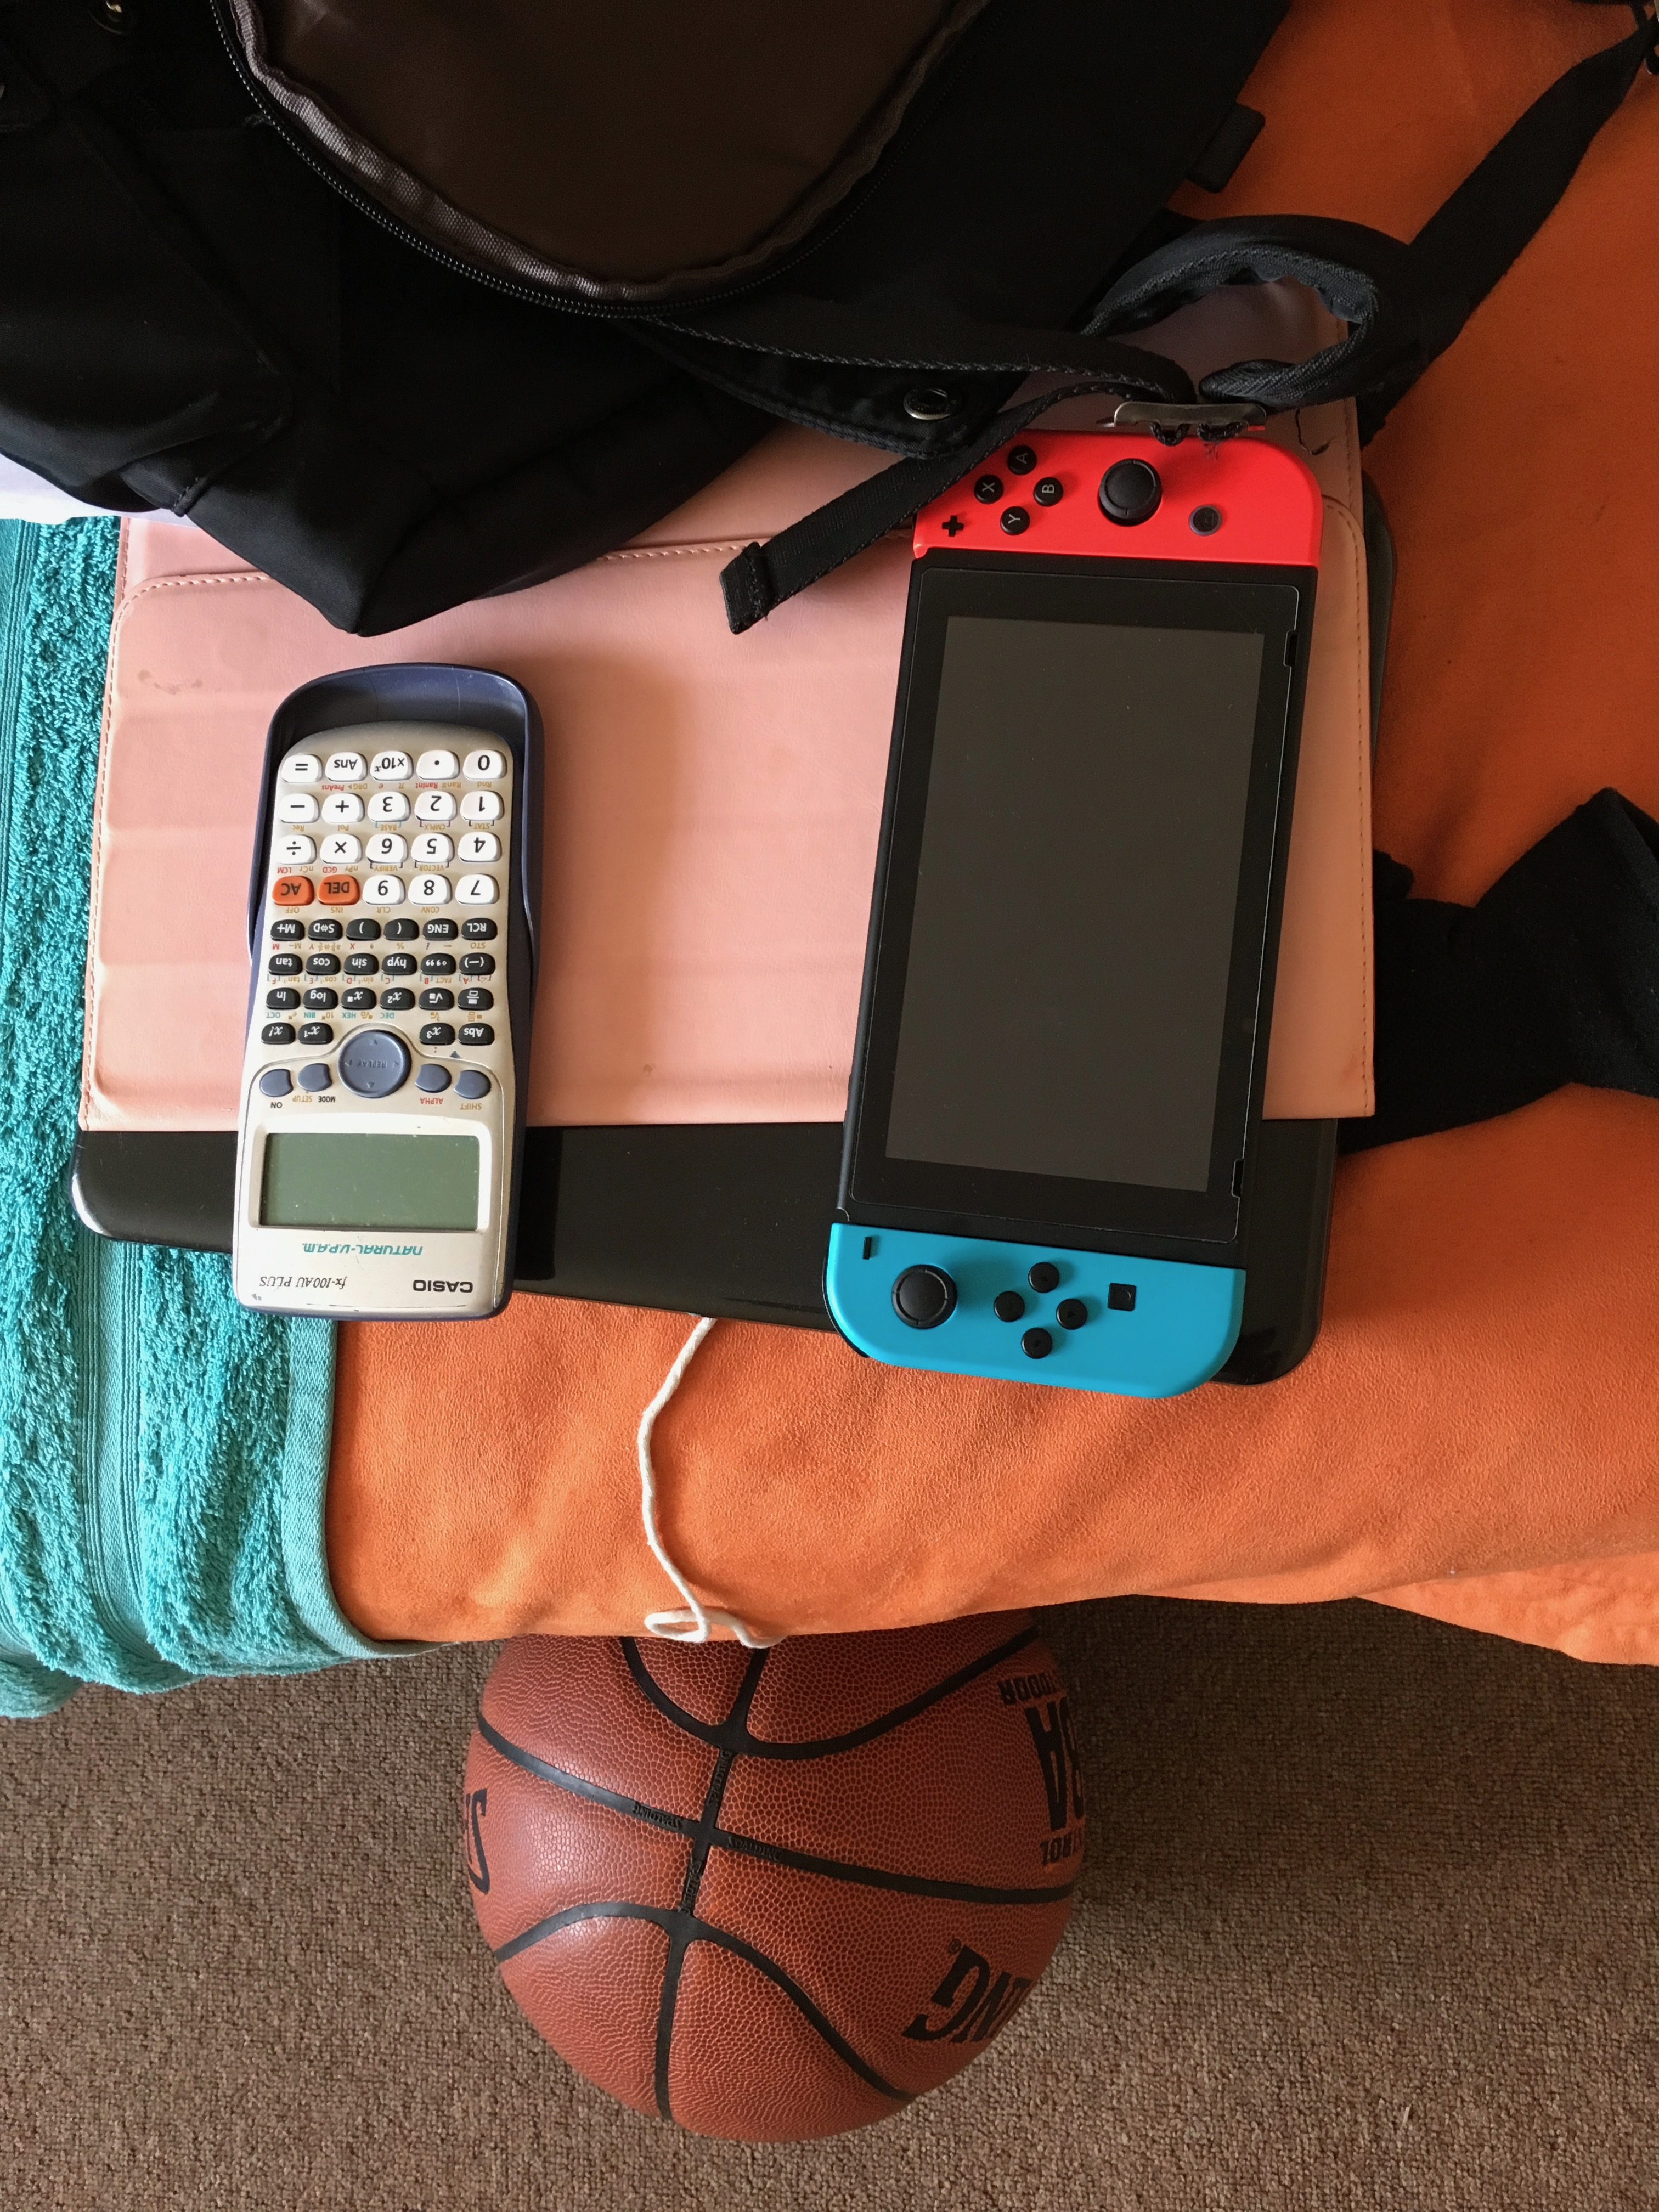Basketball: (455, 1627, 1091, 2153)
Calculator: (207, 718, 552, 1324)
NintendoSwitch: (805, 415, 1331, 1421)
